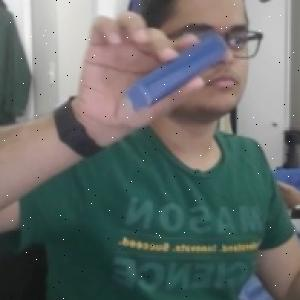Diamond-E-Ciggirate: (119, 31, 229, 116)
